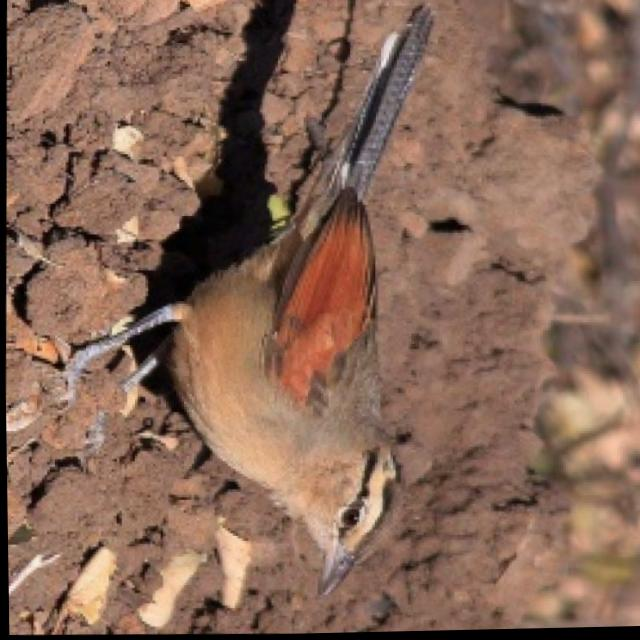sparrow: (42, 0, 451, 611)
